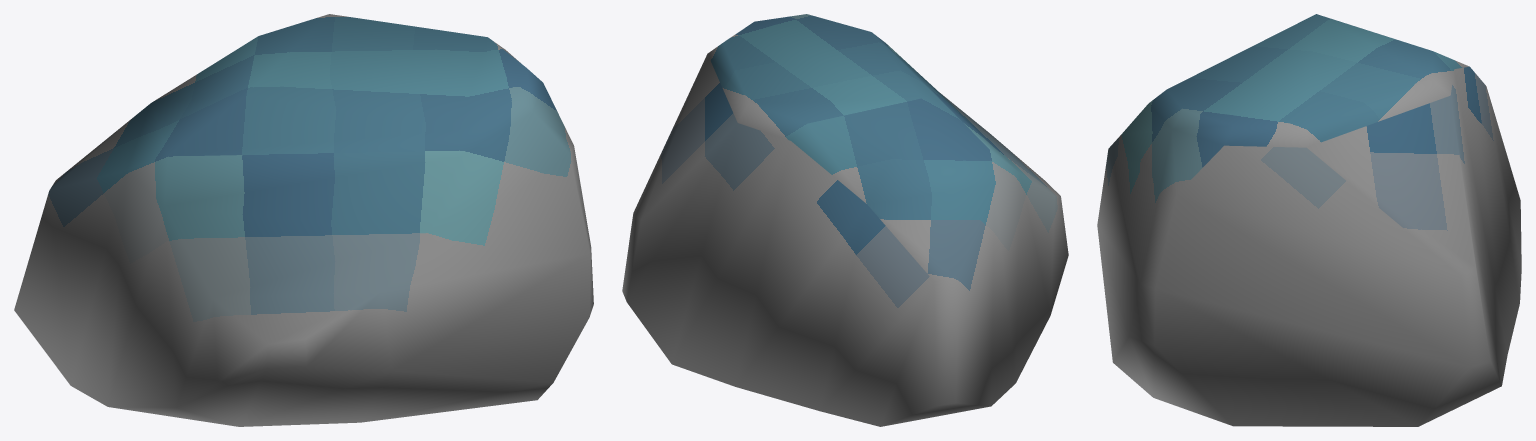
The picture shows the model from 3 angles, left to right: view 1: azimuth 30°, elevation 25°; view 2: azimuth 150°, elevation 25°; view 3: azimuth 270°, elevation 25°; orthographic projection. The views are drawn at different scales.
Visible parts, largest first — view 1: submesh_0; view 2: submesh_0; view 3: submesh_0.
Part boxes in pixels (x1,y1,x2,y2): submesh_0: (14,14,593,426); submesh_0: (622,14,1068,426); submesh_0: (1097,14,1521,426).
Bounding box in the file's own units: 1.43 × 1.03 × 1.34.
Materials: 1 (1 with a texture image).
